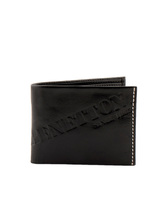other: (29, 80, 141, 169)
